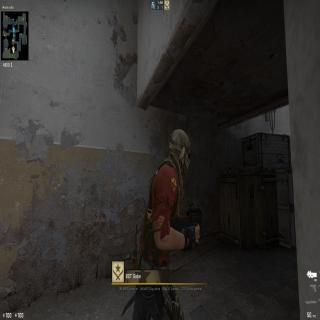T-Head: (168, 125, 192, 185)
